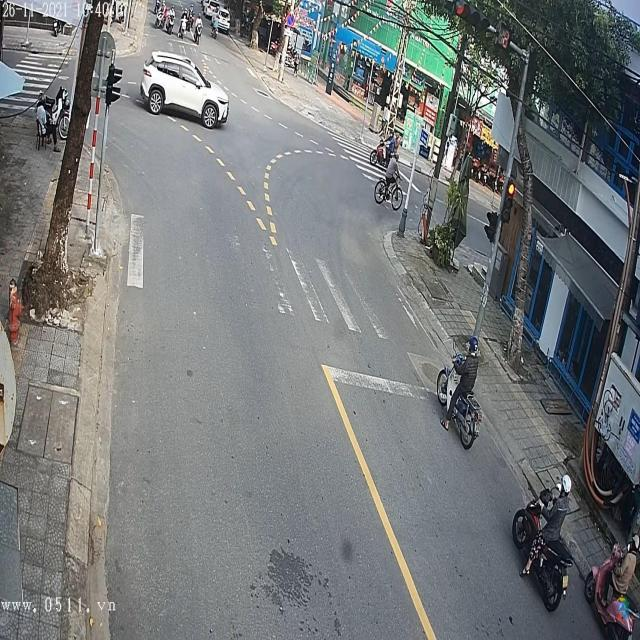car: (136, 51, 230, 130)
motorcycle: (513, 483, 571, 612), (438, 344, 482, 454), (370, 135, 397, 172)
